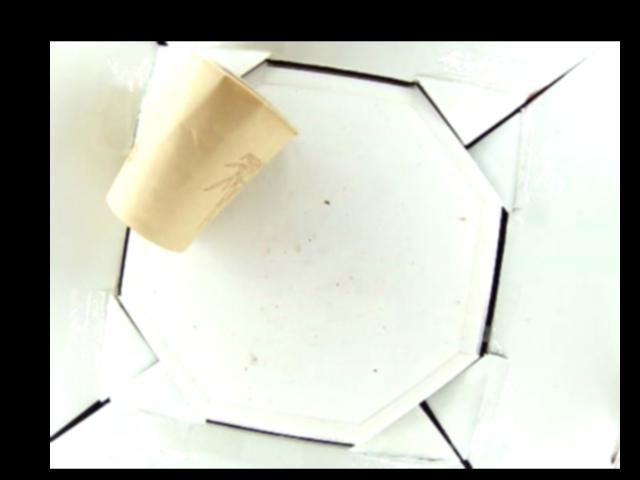Cup: (105, 51, 299, 251)
